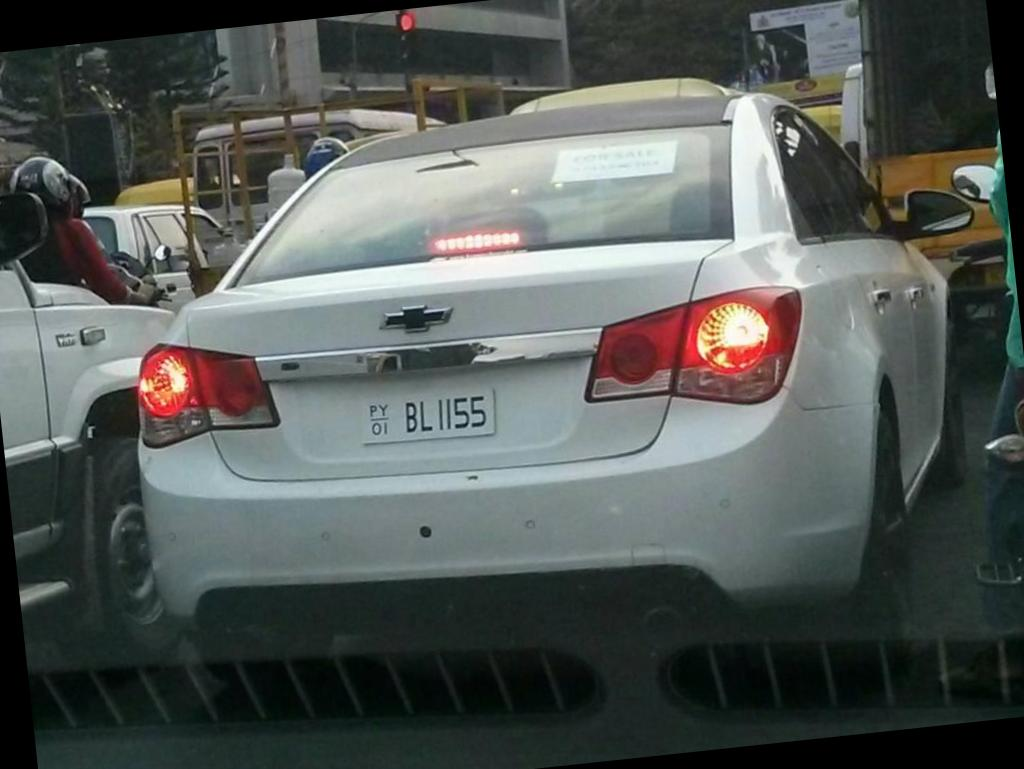plate: (348, 379, 504, 454)
